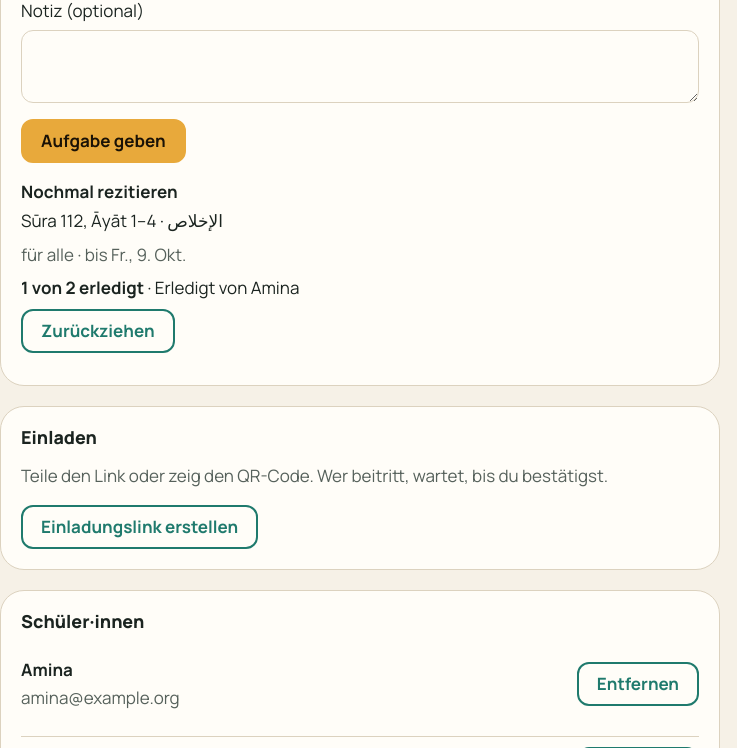
Test case: giving assignments on the ḥalaqa page (T2) › shows the teacher who is done, and takes an assignment back
(page scrolled)
expect the list item that starts with "Nochmal rezitieren" shows "Erledigt von Amina": met, box x1=144 y1=276 x2=299 y2=299
expect the list item that starts with "Nochmal rezitieren" shows "für alle": met, box x1=21 y1=242 x2=74 y2=266
Click the button "Zurückziehen" at (98, 330), box x1=21 y1=308 x2=175 y2=352
(page scrolled)
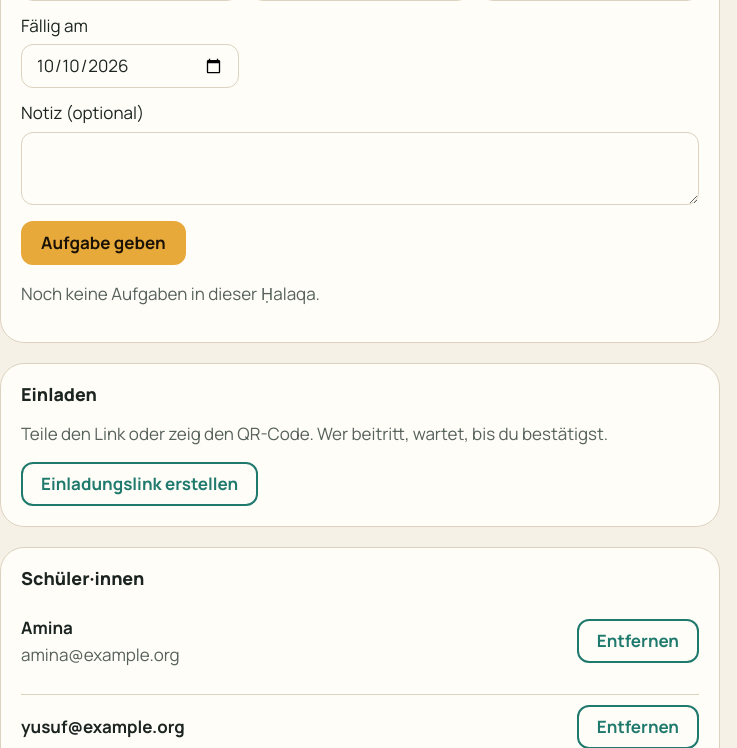
expect the text "Noch keine Aufgaben in dieser Ḥalaqa." is shown: met, box x1=21 y1=282 x2=320 y2=304
